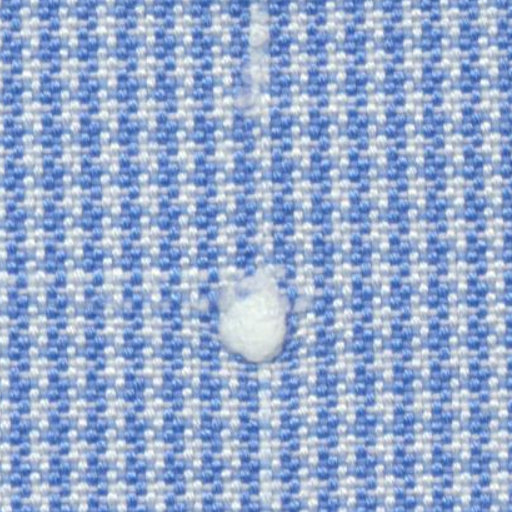MianQiu: (196, 264, 316, 376)
